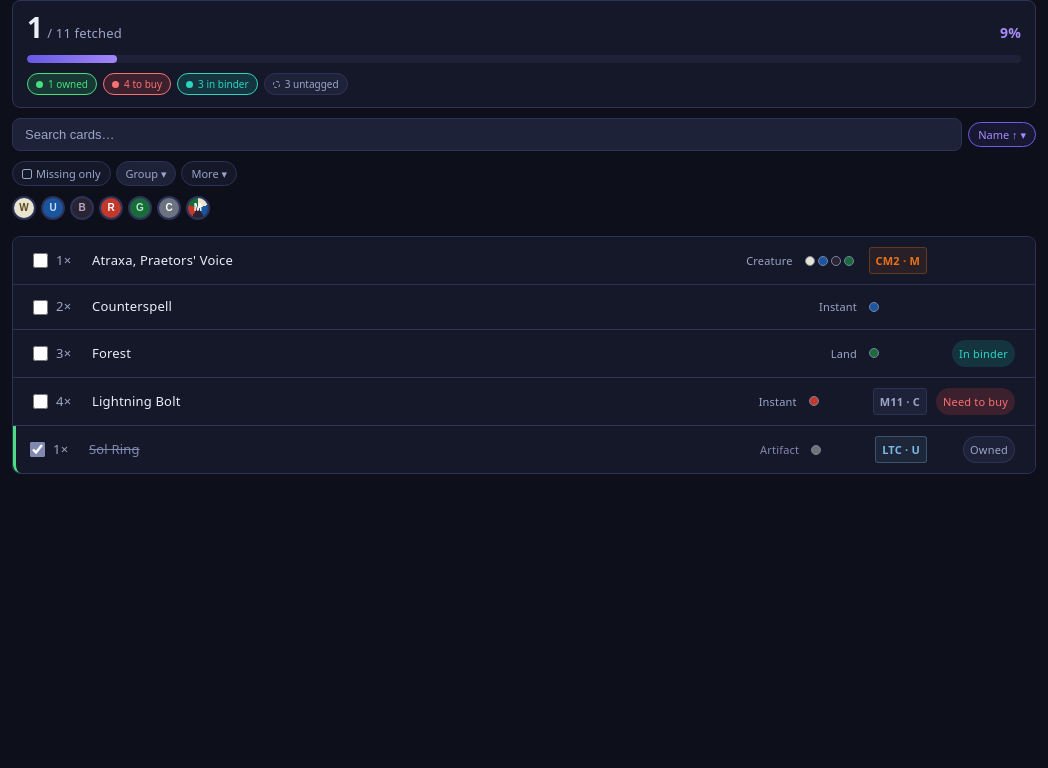
it: Checklist — filtering, sorting, grouping › sort menu closes on outside click
Click the button "Name ↑ ▾" at (1002, 135), box [968,122,1036,147]
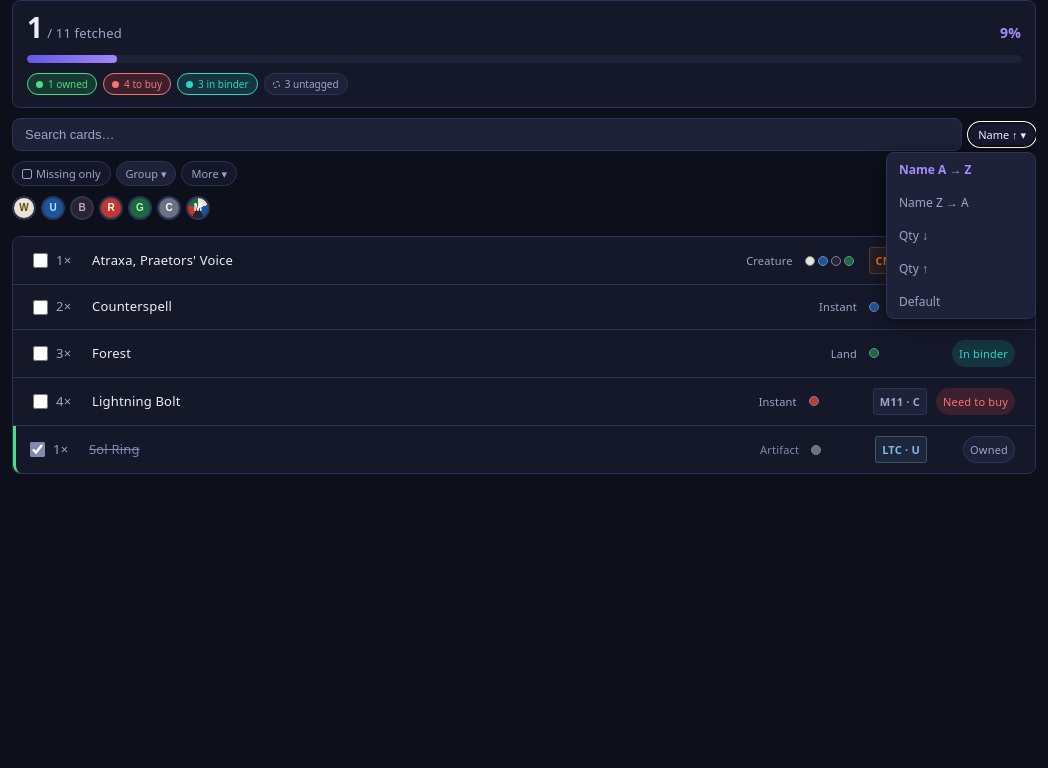
Expected: the element with class "sort-picker-dropdown" is shown, [886,152,1036,319]
Press the mouse on the element that starts with "fetched" at (524, 384), box [12,0,1036,767]
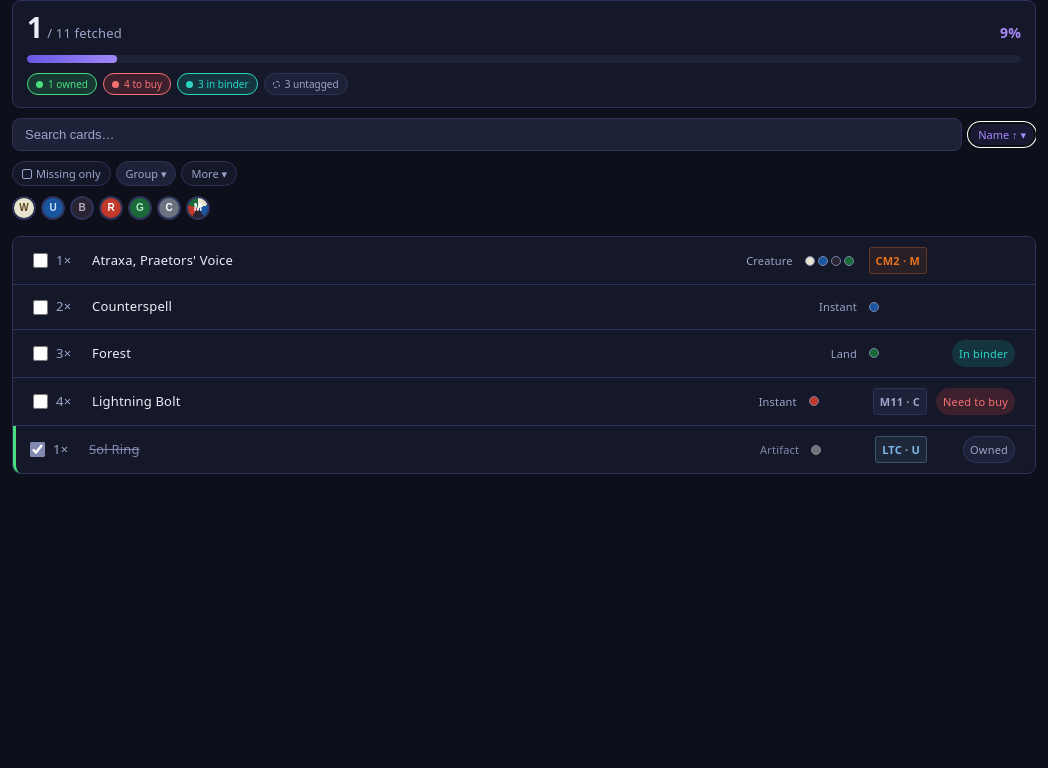
Expected: the element with class "sort-picker-dropdown" is gone
